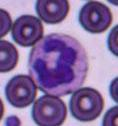N: (28, 33, 88, 95)
